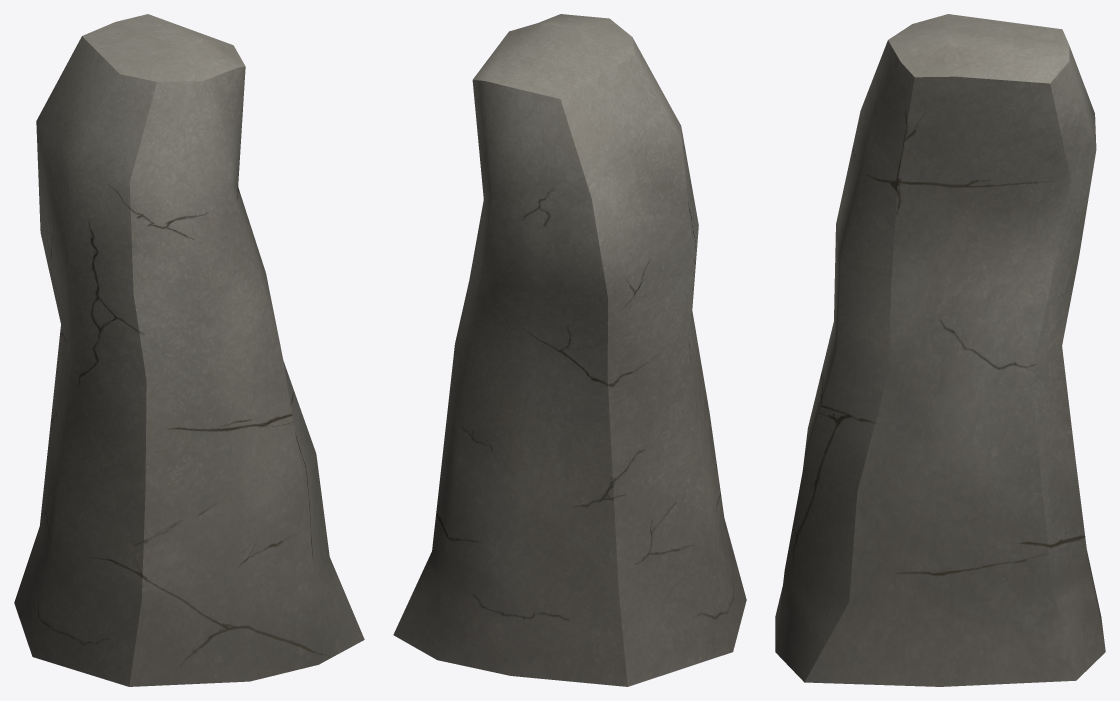
The model's file is Rock.FBX.
The picture shows the model from 3 angles, left to right: view 1: azimuth 30°, elevation 25°; view 2: azimuth 150°, elevation 25°; view 3: azimuth 270°, elevation 25°; orthographic projection. The views are drawn at different scales.
Visible parts, largest first — view 1: Box001; view 2: Box001; view 3: Box001.
Part boxes in pixels (x1,y1,x2,y2): Box001: (14,14,364,686); Box001: (393,14,746,686); Box001: (775,14,1105,686).
Bounding box in the file's own units: 10 × 19.76 × 10.
